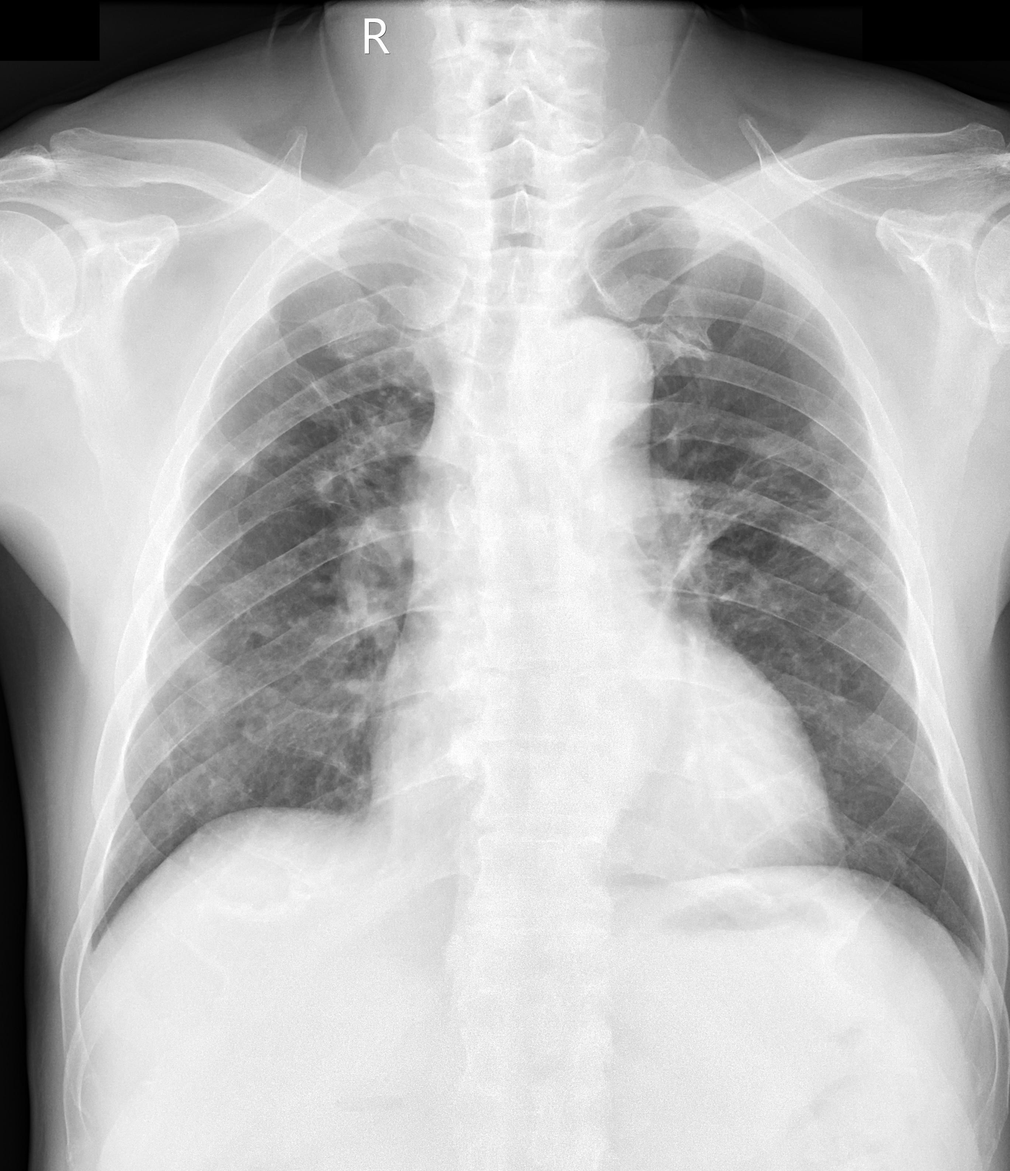Aortic enlargement: (520, 311, 656, 439)
Cardiomegaly: (362, 717, 840, 860)
Pleural thickening: (338, 192, 468, 231), (588, 192, 683, 241)
Pulmonary fibrosis: (659, 421, 870, 591), (225, 374, 427, 514)
